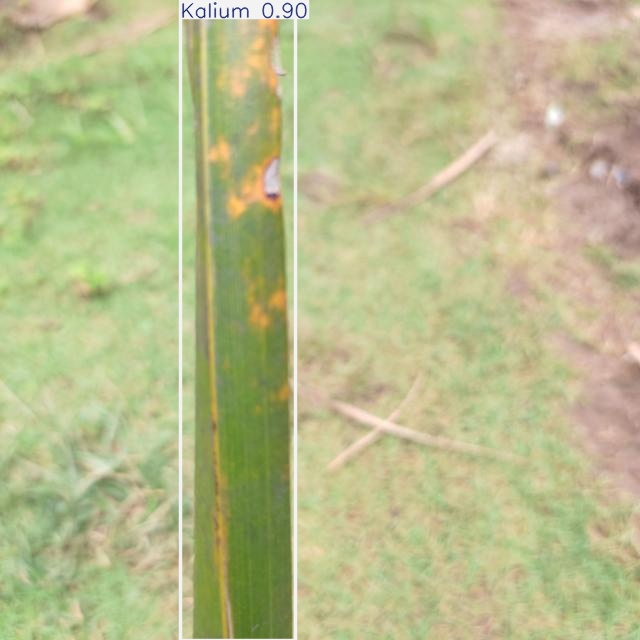Kalium: (180, 0, 295, 640)
